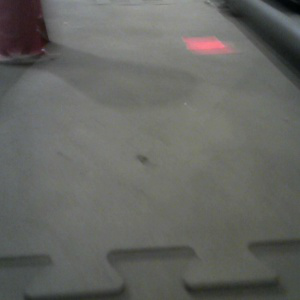Middle: (1, 1, 50, 65)
